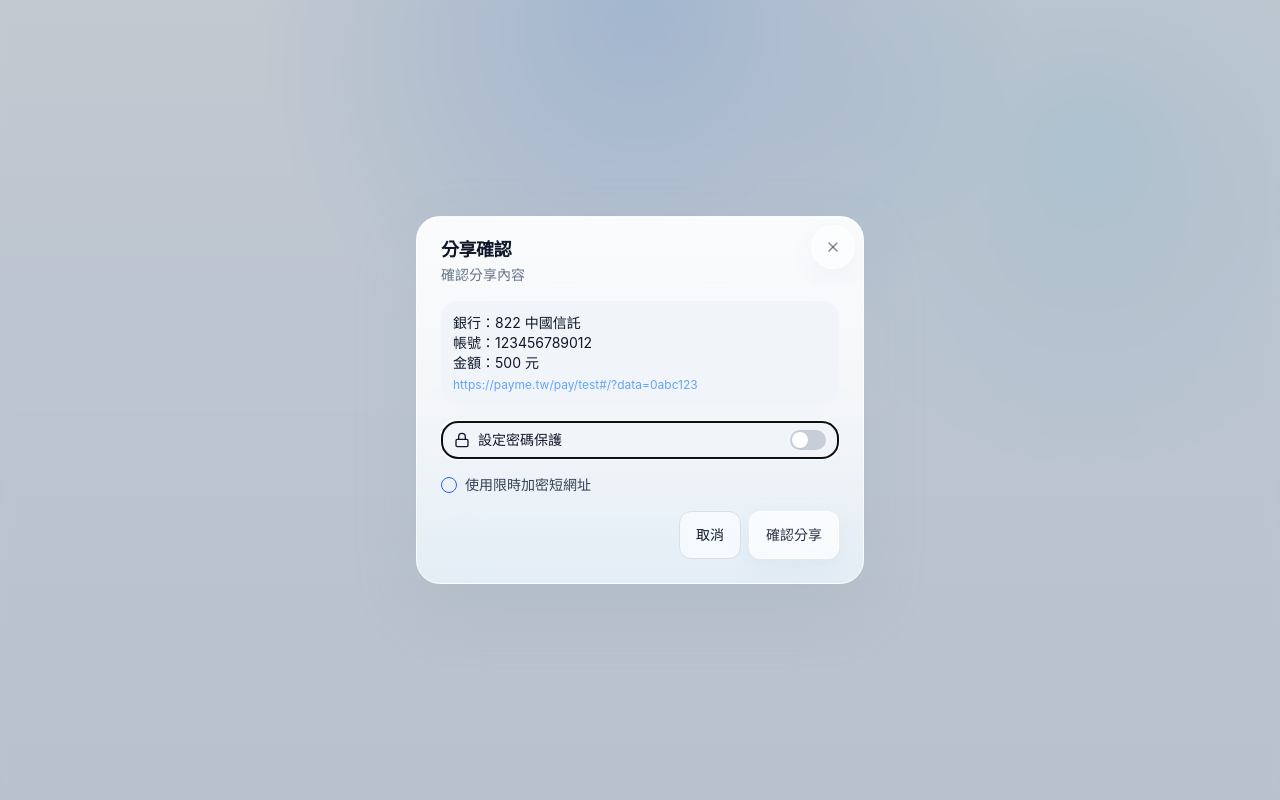
Scenario: ShareConfirmDialog › 密碼保護 UI › 點擊 toggle 後應顯示密碼輸入欄
Click the button "設定密碼保護".
click(520, 440)  # box [441, 421, 839, 459]
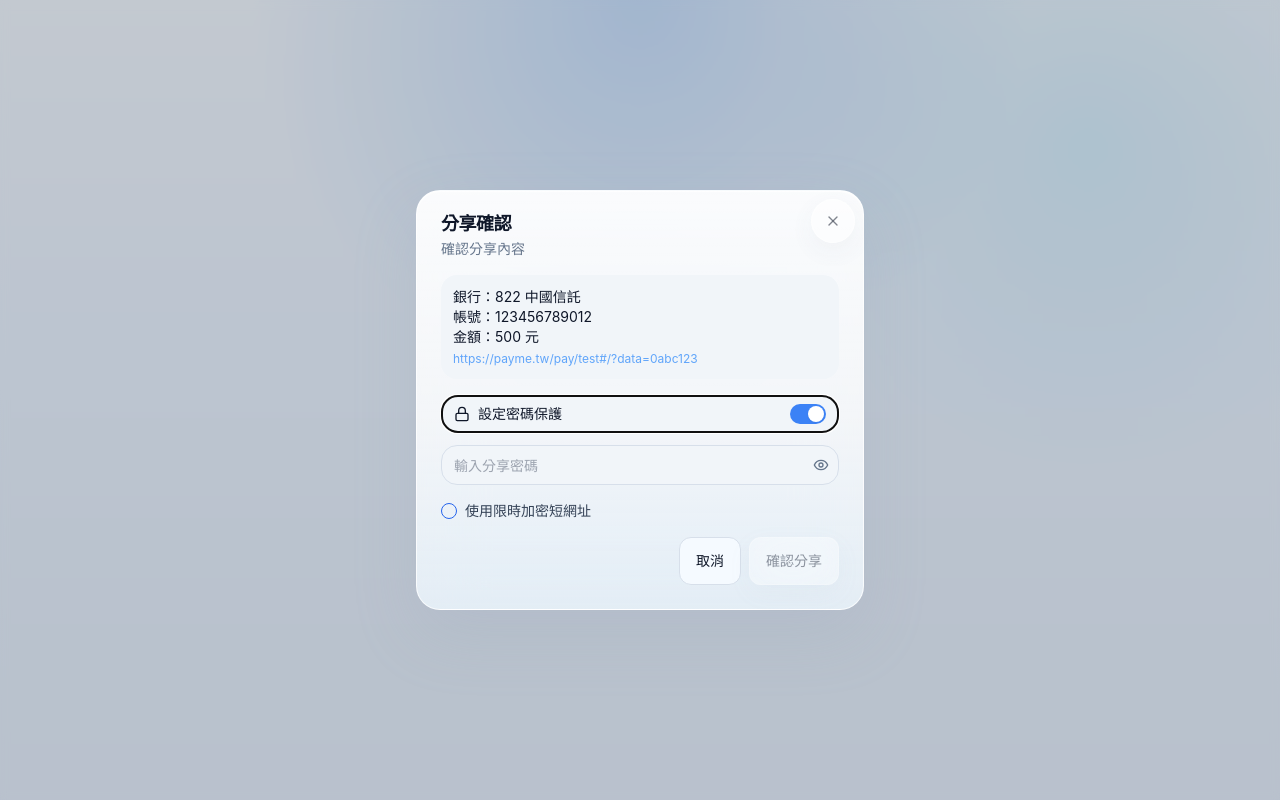
Check: the password field with placeholder "輸入分享密碼" is shown, box [441, 445, 839, 485]
